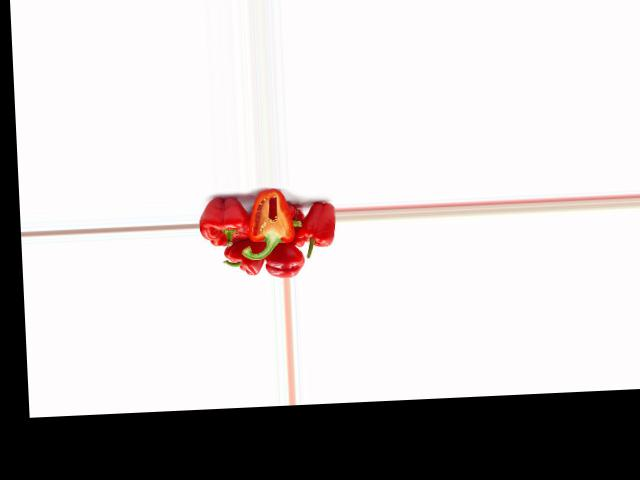bell_pepper: (222, 240, 267, 277)
